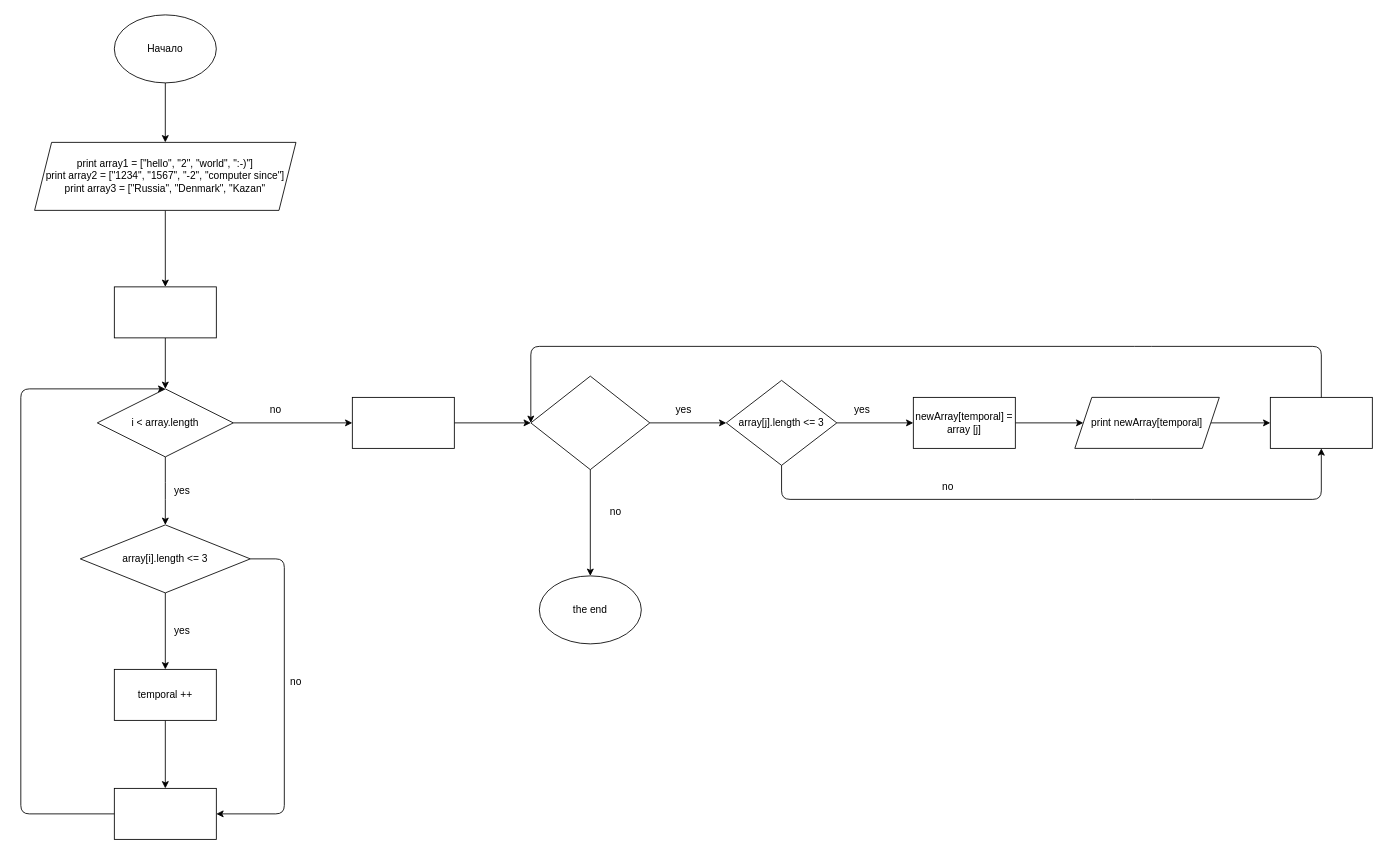
Image size: 1387x854. Some labels were removed from this diagram. Here are the shapes that lost their labels. From the top down, the centre of each, then its label:
At (164,312): "int temporal = 0 int i = 0".
At (402,422): "array = newArray [temporal] temoral = 0 j = 0".
At (590,422): "j < array.length".
At (1320,422): "j++".
At (164,813): "i++".
